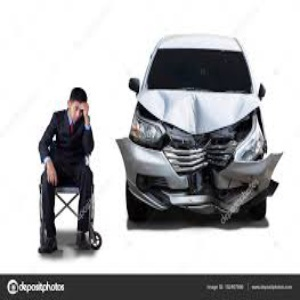bonnet: (143, 88, 260, 130)
bumper: (115, 135, 286, 211)
